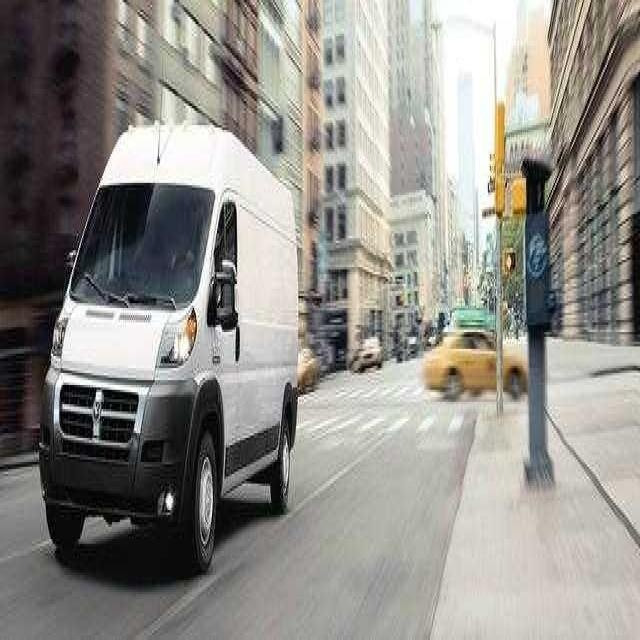Van: (38, 119, 301, 575)
